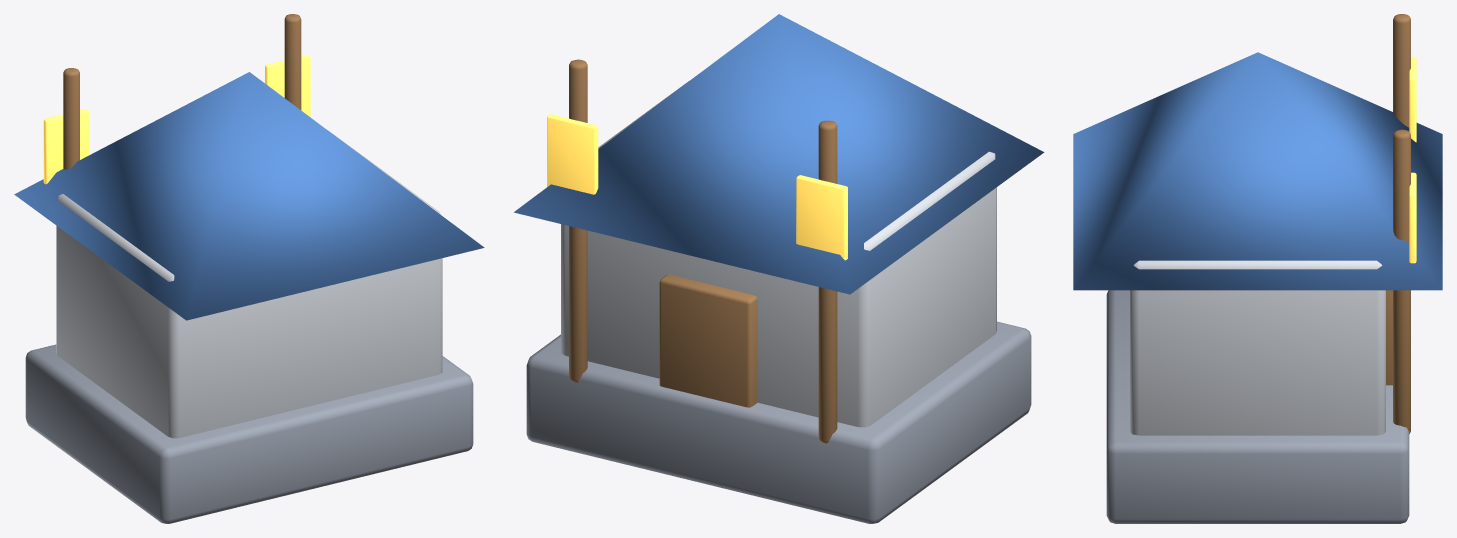
The model's file is bldg_barracks.glb.
3 views of the same model, side by side, from view 1: azimuth 30°, elevation 25°; view 2: azimuth 150°, elevation 25°; view 3: azimuth 270°, elevation 25° (orthographic). The views are drawn at different scales.
Visible parts, largest first — view 1: StaticBody; view 2: StaticBody; view 3: StaticBody.
Part boxes in pixels (bbox=[...]): StaticBody: bbox=[14, 14, 484, 523]; StaticBody: bbox=[514, 14, 1044, 523]; StaticBody: bbox=[1073, 14, 1442, 523].
Size of the model in its own units: 2.15 by 2.41 by 2.05.
